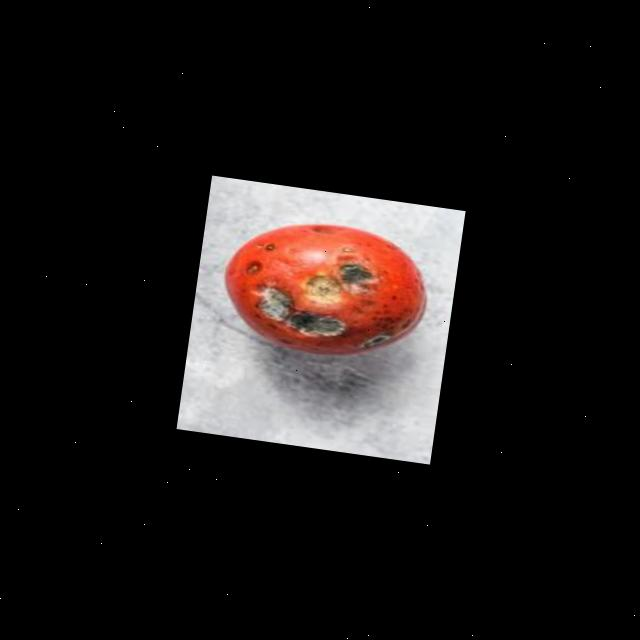tomato: (208, 207, 439, 371)
